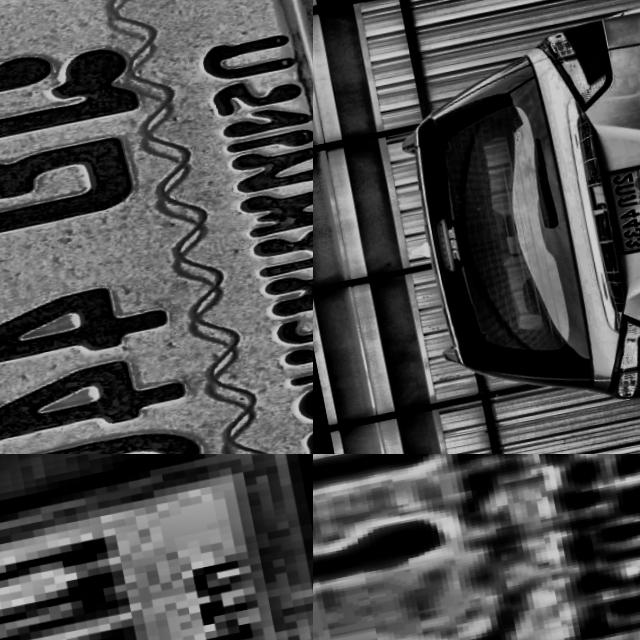license-plate: (0, 0, 313, 454), (313, 454, 640, 640), (0, 454, 313, 640), (591, 157, 640, 267)
